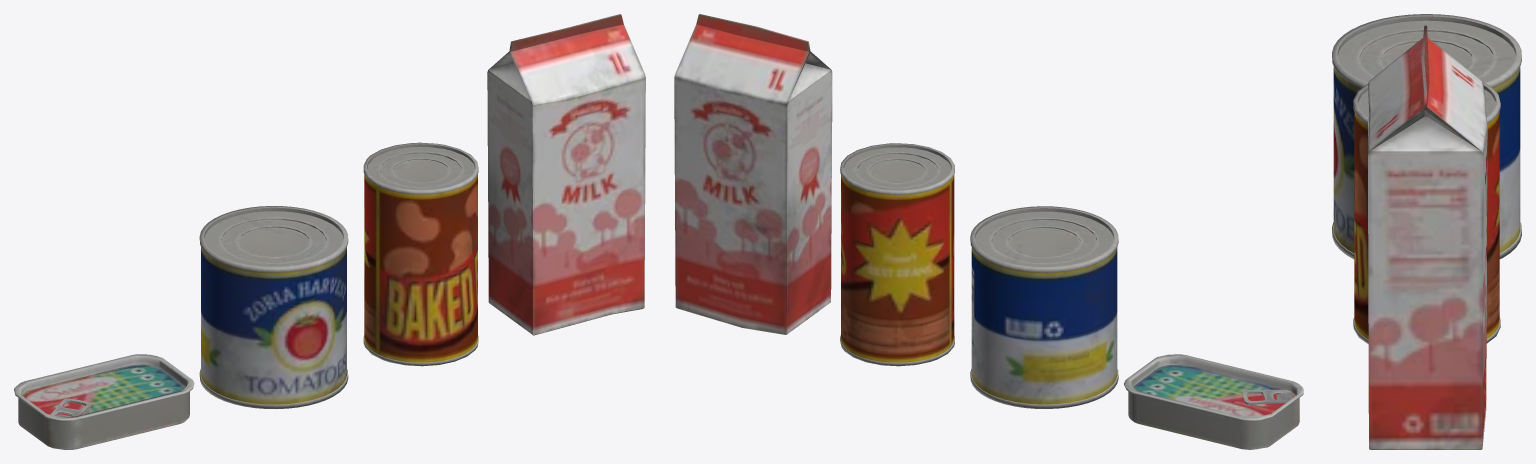
File: rations.glb
3 views of the same model, side by side, from view 1: azimuth 30°, elevation 25°; view 2: azimuth 150°, elevation 25°; view 3: azimuth 270°, elevation 25° (orthographic). The views are drawn at different scales.
Parts seen in each view (by area): view 1: long_life_food_milk, long_life_food_tomatoes, long_life_food_beans, long_life_food_sardines; view 2: long_life_food_milk, long_life_food_tomatoes, long_life_food_beans, long_life_food_sardines; view 3: long_life_food_milk, long_life_food_tomatoes, long_life_food_beans.
Boxes of the visible parts, x1,y1,x2,y2 form: long_life_food_milk: (487, 14, 645, 335); long_life_food_tomatoes: (199, 206, 348, 409); long_life_food_beans: (363, 142, 478, 366); long_life_food_sardines: (14, 354, 194, 449); long_life_food_milk: (674, 14, 832, 334); long_life_food_tomatoes: (970, 206, 1118, 408); long_life_food_beans: (840, 143, 954, 366); long_life_food_sardines: (1124, 354, 1303, 449); long_life_food_milk: (1368, 25, 1487, 449); long_life_food_tomatoes: (1332, 14, 1521, 259); long_life_food_beans: (1353, 82, 1500, 344).
Bounding box in the file's own units: 0.5233 × 0.2376 × 0.1136.
1 material, 1 textured.
